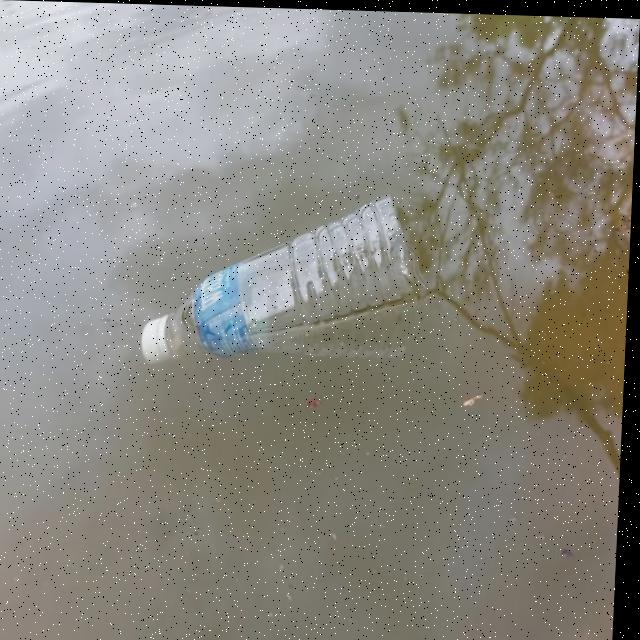waterbottle: (130, 177, 423, 413)
